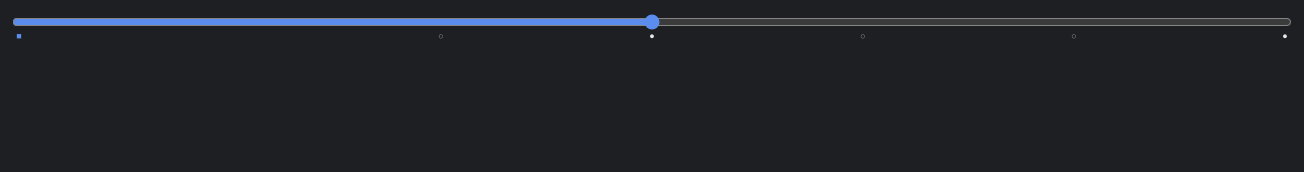
Test: KeySlider の範囲の選択 › 範囲は min..max に収める。動かさずに離すと選択を解除する
Press the mouse on the element with class "key-slider-track" at (652,27), box left=12, top=12, right=1292, bottom=42
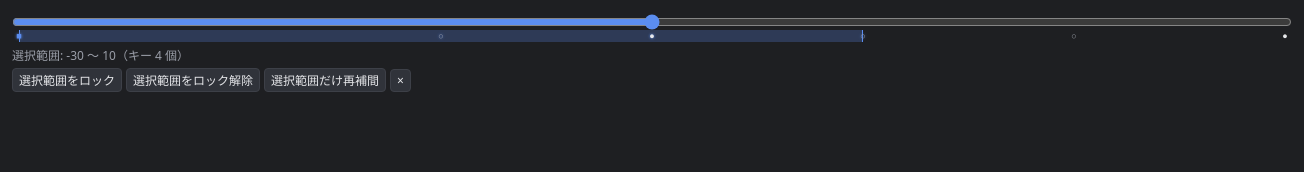
Expected: the element named "選択範囲のキー" shows "選択範囲: -30 〜 10（キー 4 個）", left=12, top=47, right=411, bottom=92
Press the mouse on the element with class "key-slider-track" at (652,27), box left=12, top=12, right=1292, bottom=42
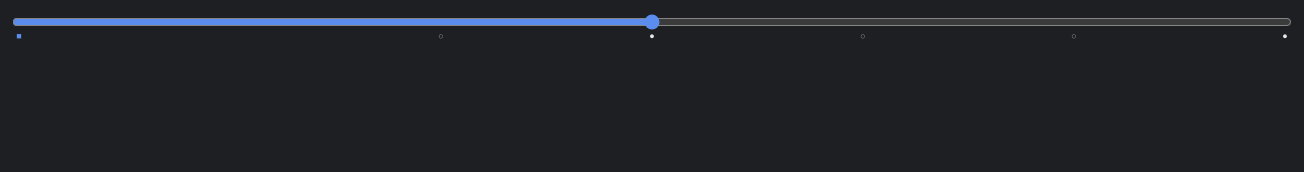
Expected: the element with test id "key-selection" is gone
